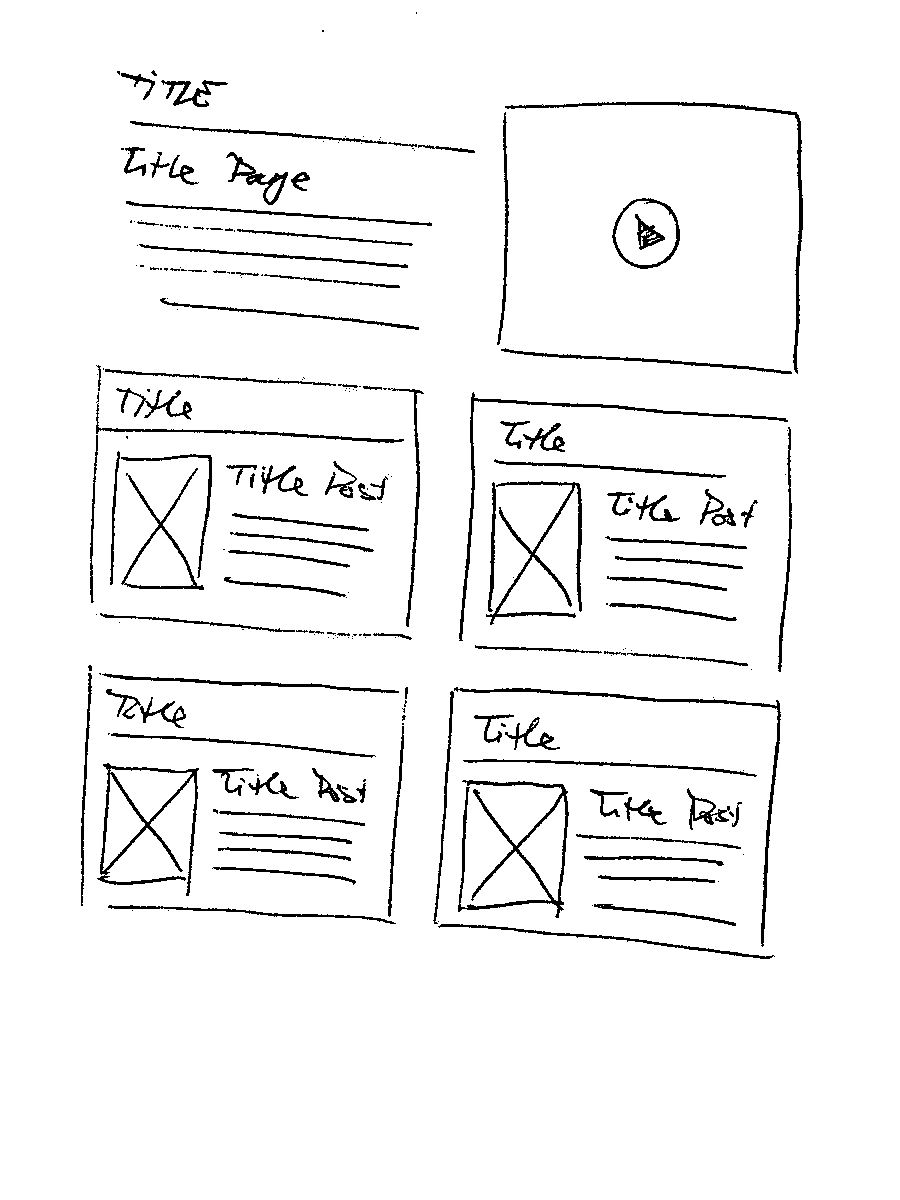Heading: (111, 60, 237, 113), (117, 136, 206, 189), (471, 707, 562, 758), (102, 683, 198, 731), (589, 782, 673, 831), (113, 378, 198, 425), (209, 760, 295, 802), (497, 413, 569, 453), (606, 482, 675, 522)
Image: (453, 773, 573, 922), (104, 443, 217, 596), (484, 473, 587, 627), (97, 758, 198, 894)
Paragraph: (117, 196, 435, 333), (573, 827, 746, 931), (207, 798, 366, 893), (600, 525, 749, 625)
